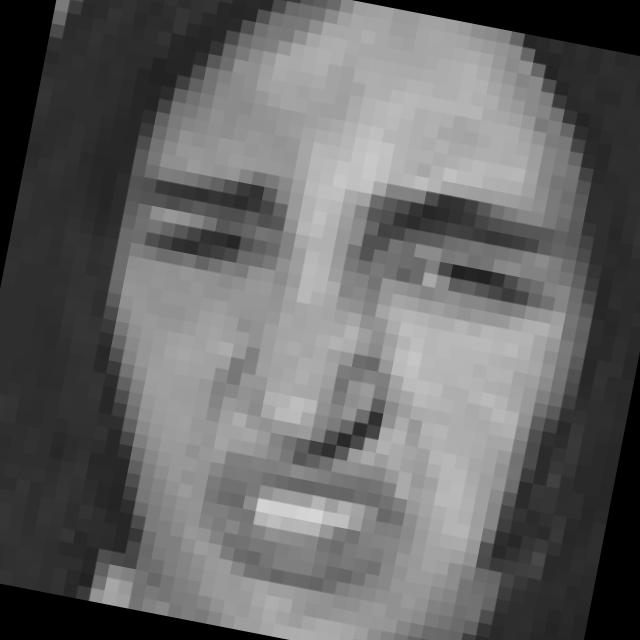disgust: (63, 123, 578, 632)
